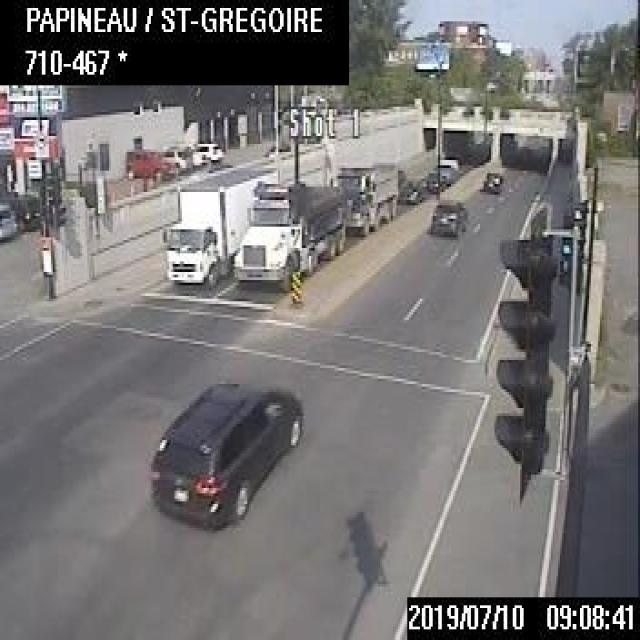vehicle: (147, 376, 304, 528), (160, 166, 282, 286), (226, 174, 347, 282), (336, 155, 400, 236), (121, 146, 170, 178), (428, 196, 468, 235), (0, 191, 38, 228), (162, 143, 192, 172), (433, 155, 459, 186), (190, 140, 224, 163), (397, 176, 421, 201), (480, 168, 502, 190), (0, 203, 13, 237)
